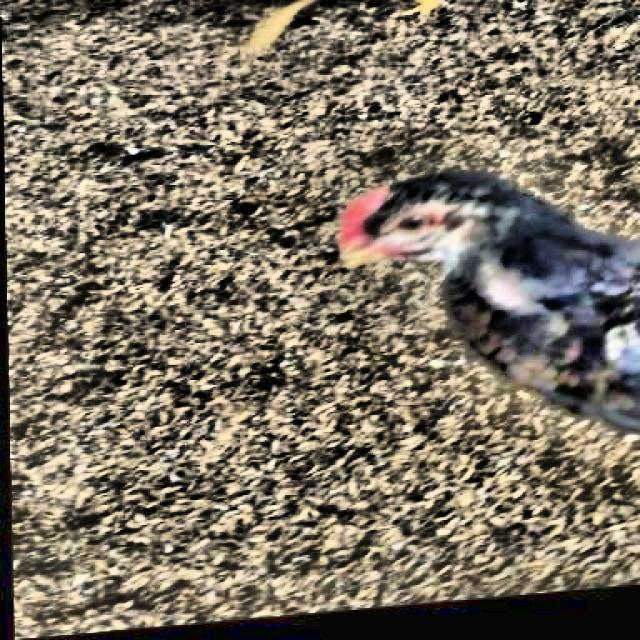Healthy: (376, 197, 442, 248)
